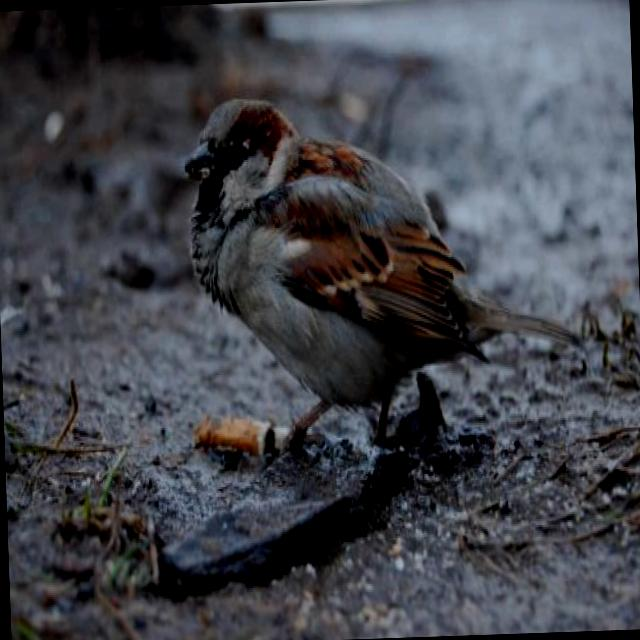bird: (178, 75, 590, 488)
